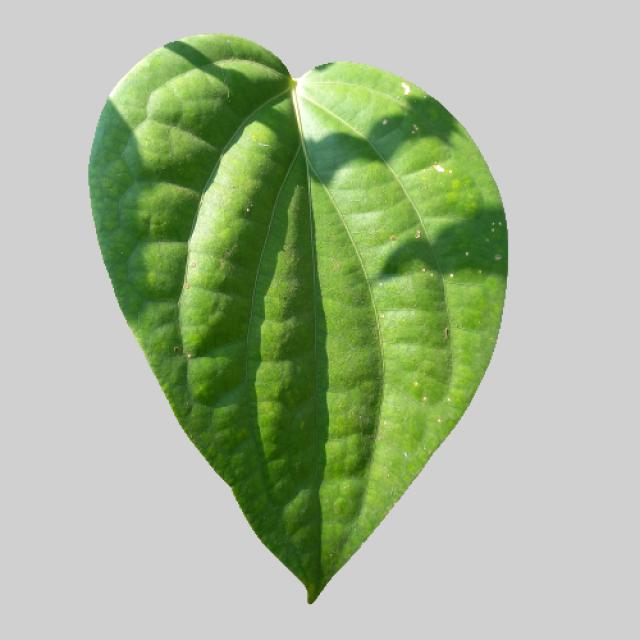healthy: (88, 34, 509, 604)
